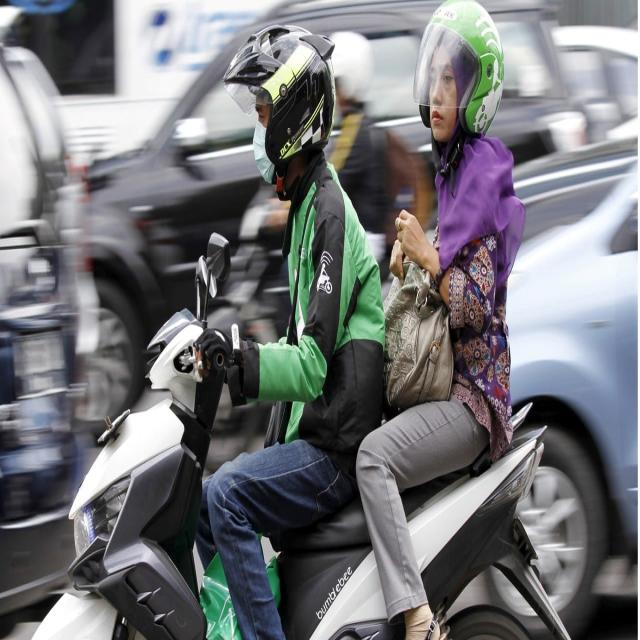helmet: (223, 24, 337, 167), (413, 1, 505, 138)
